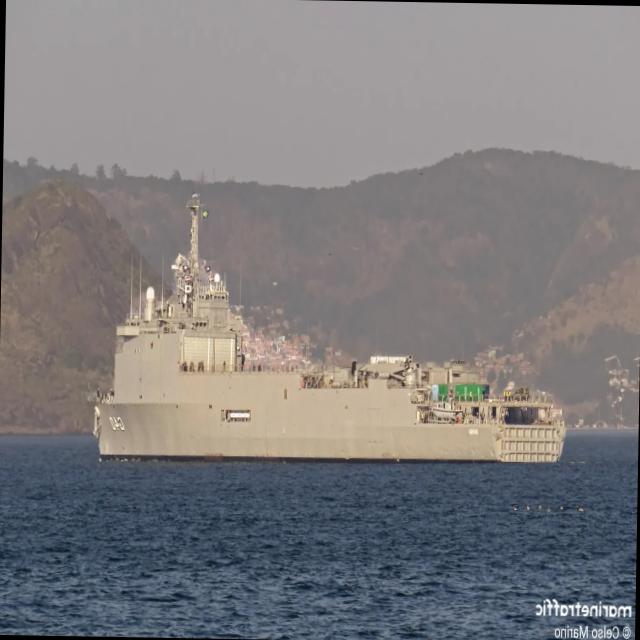Military: (87, 194, 564, 461)
